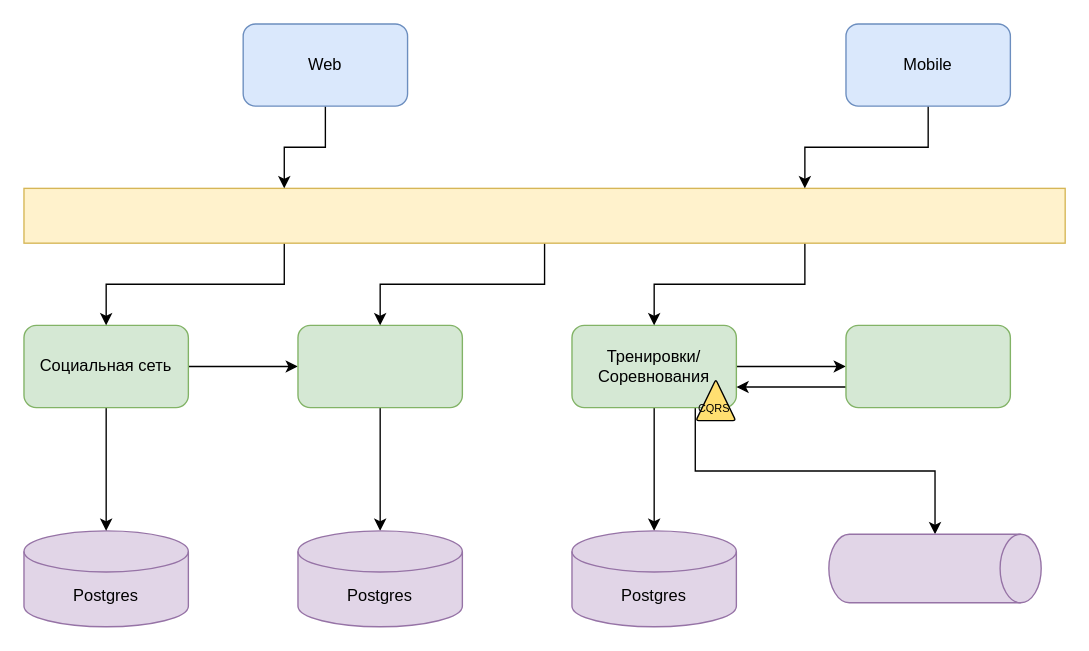
Some shapes in this 1089 by 651 pixel diagram are drawn without their labels. The shapes that lost their labels are listed below. From the top down, each one's centre as x and y in pixels, then its label:
(x=544, y=215): API Gateway
(x=379, y=366): Сообщения
(x=927, y=366): GIS сервер
(x=934, y=568): Redis
